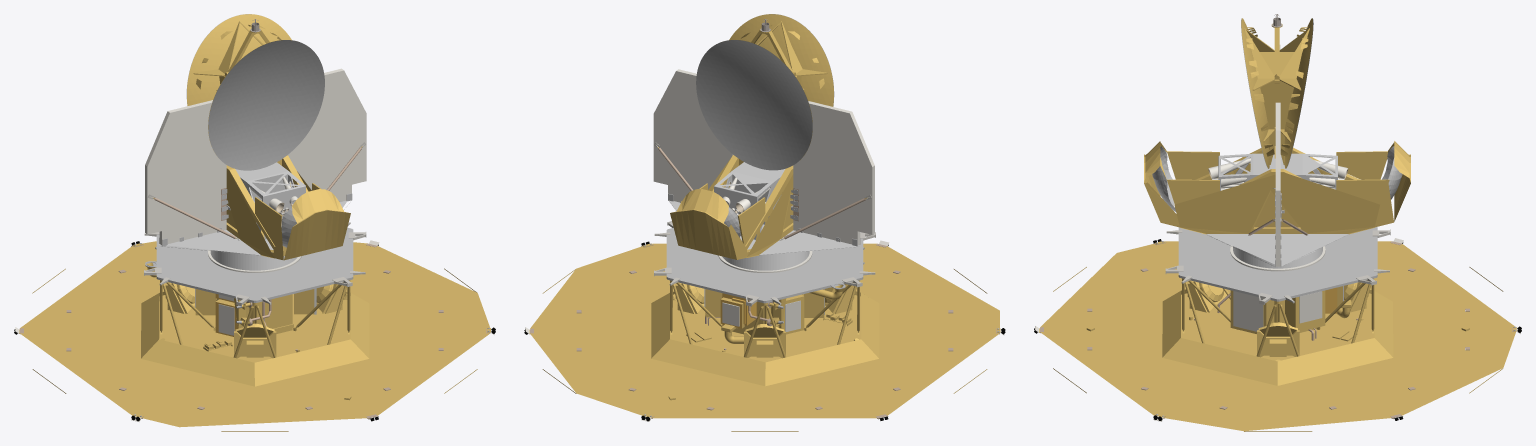
The model's file is wmap.glb.
3 views of the same model, side by side, from view 1: azimuth 30°, elevation 25°; view 2: azimuth 150°, elevation 25°; view 3: azimuth 270°, elevation 25° (orthographic).
Parts seen in each view (by area): view 1: Layer_0; view 2: Layer_0; view 3: Layer_0.
Part boxes in pixels (x1,y1,x2,y2): Layer_0: [14, 14, 495, 431]; Layer_0: [524, 14, 1005, 431]; Layer_0: [1034, 14, 1521, 431].
Size of the model in its own units: 4.92 by 3.67 by 5.
